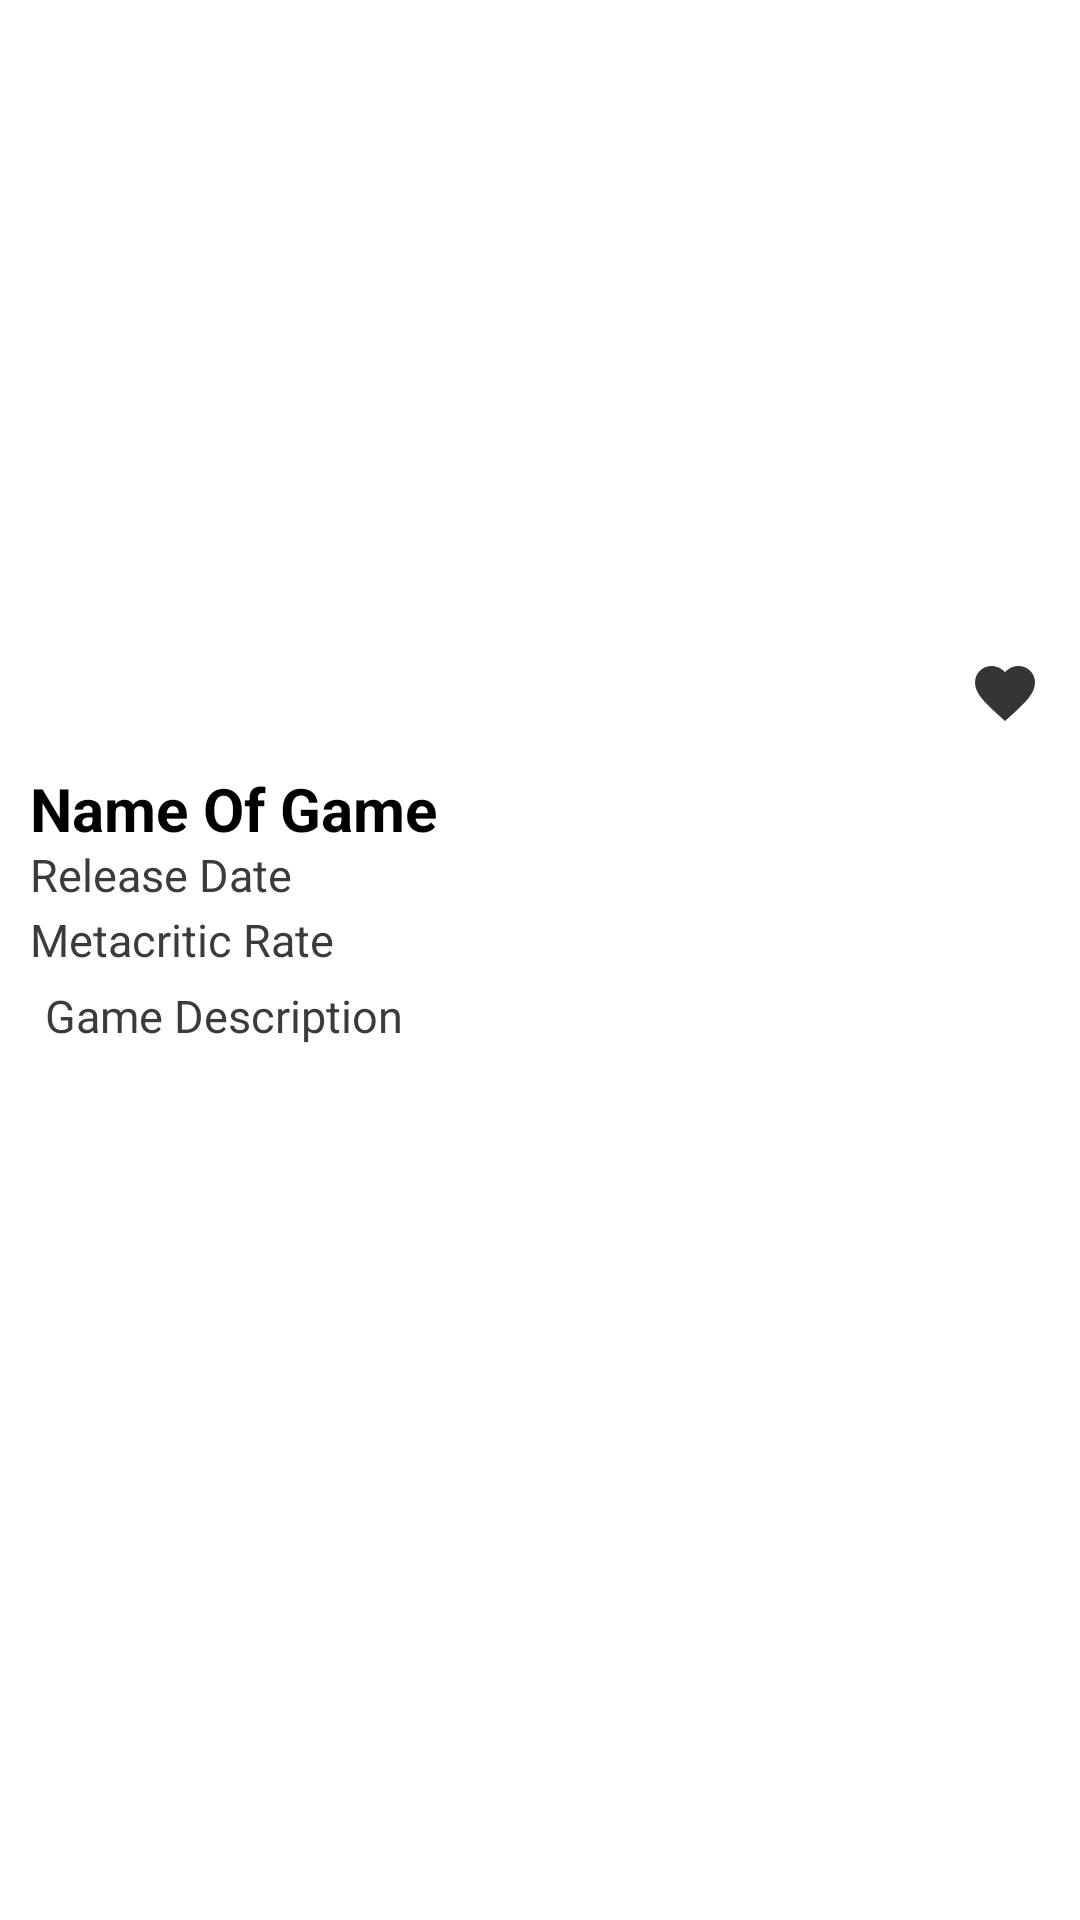

Icons on this 1080*1920 Android screen, each with the point to tap as (x=x, y=y):
like: (x=1005, y=693)
